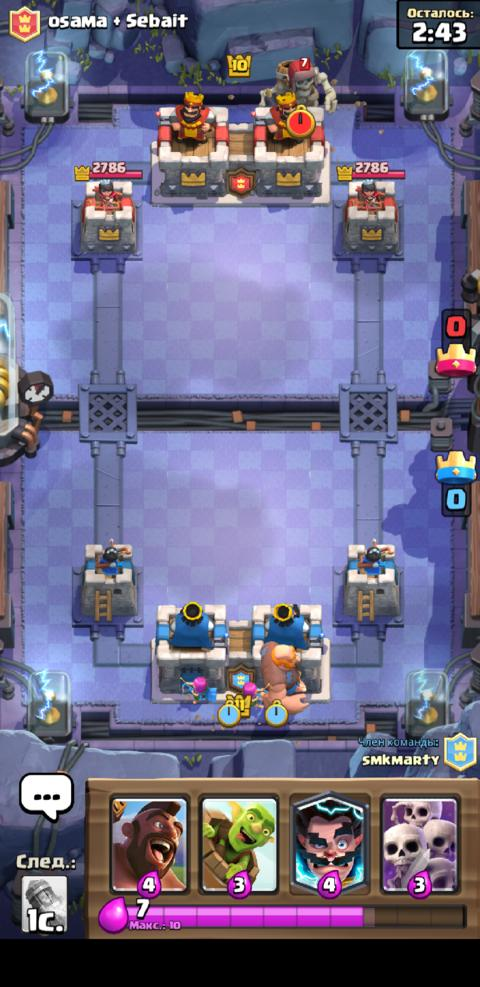ally_archer: (179, 674, 217, 707), (240, 679, 271, 710)
ally_giant: (258, 640, 309, 713)
enemy_giant_skeleton: (256, 56, 337, 126)
